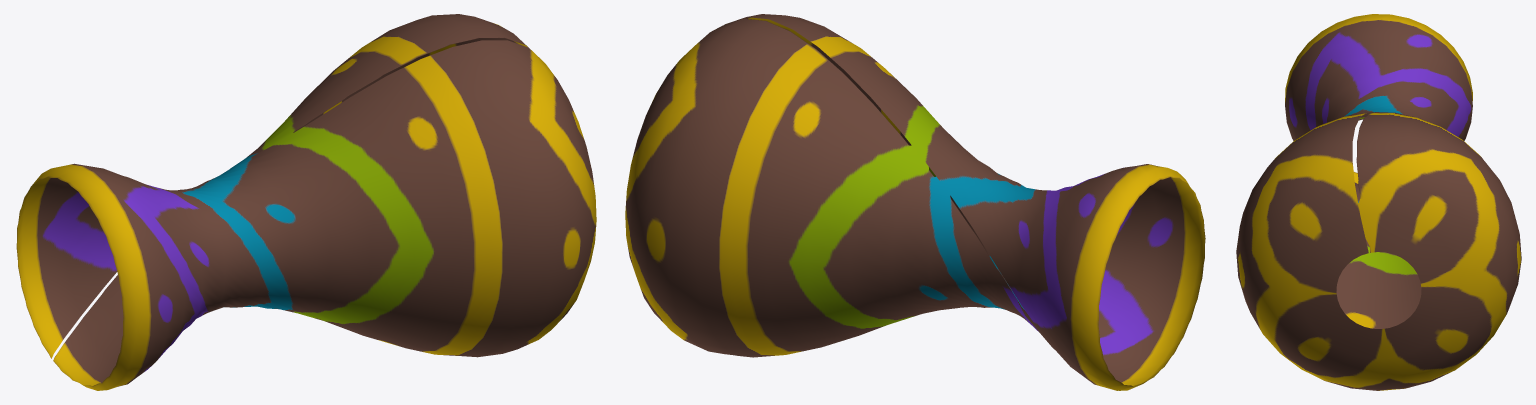
Rendered from Vase#2.fbx.
3 renders of one model, left to right at view 1: azimuth 30°, elevation 25°; view 2: azimuth 150°, elevation 25°; view 3: azimuth 270°, elevation 25°, orthographic. The views are drawn at different scales.
Parts seen in each view (by area): view 1: BezierCurve; view 2: BezierCurve; view 3: BezierCurve.
Part boxes in pixels (x1=…): BezierCurve: x1=16, y1=14, x2=596, y2=390; BezierCurve: x1=625, y1=14, x2=1205, y2=390; BezierCurve: x1=1236, y1=14, x2=1521, y2=390.
Bounding box in the file's own units: 228 × 134 × 134.
